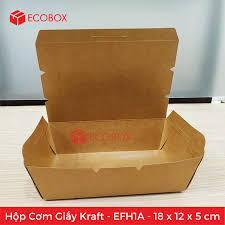box: (21, 28, 205, 201)
